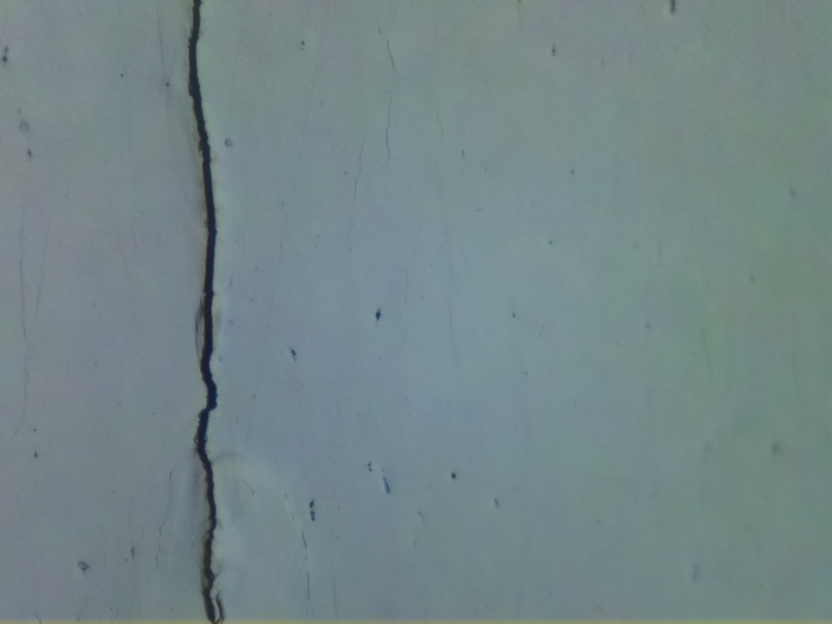crack: (174, 0, 230, 624)
